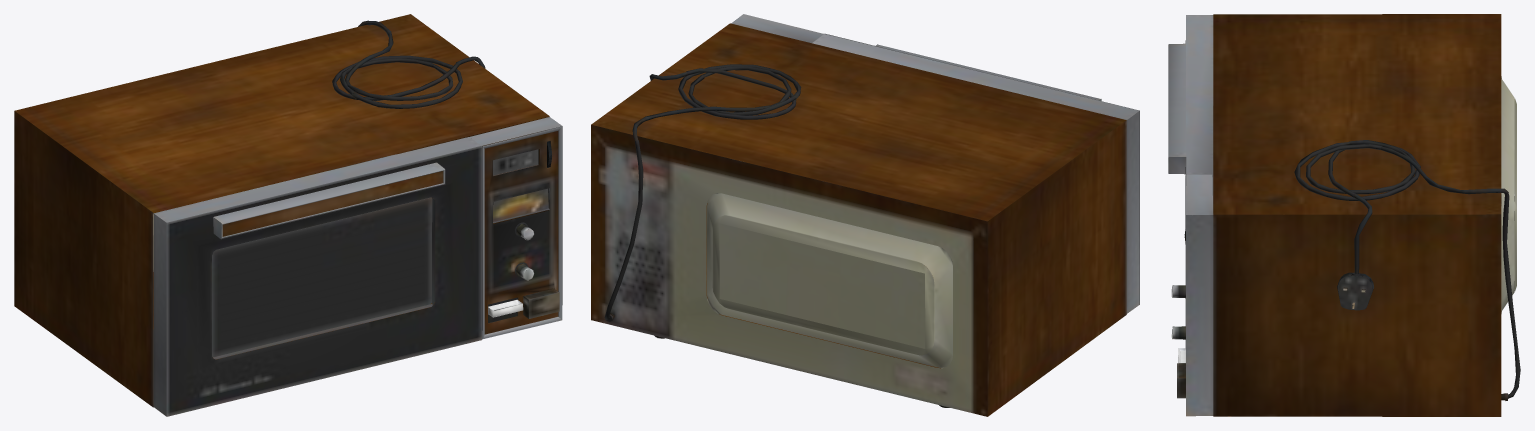
The model's file is microwave.glb.
3 renders of one model, left to right at view 1: azimuth 30°, elevation 25°; view 2: azimuth 150°, elevation 25°; view 3: azimuth 270°, elevation 25°, orthographic. The views are drawn at different scales.
Visible parts, largest first — view 1: vintage_microwave; view 2: vintage_microwave; view 3: vintage_microwave.
Part boxes in pixels (<box>): vintage_microwave: <box>14,14,562,416</box>; vintage_microwave: <box>591,14,1139,416</box>; vintage_microwave: <box>1168,14,1520,416</box>.
Bounding box in the file's own units: 0.5364 × 0.263 × 0.3732.
Materials: 1 (1 with a texture image).
